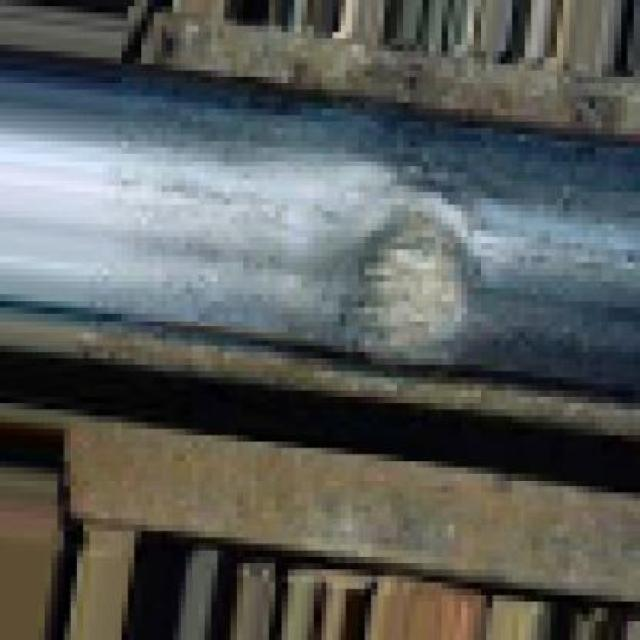defective: (106, 65, 640, 508)
